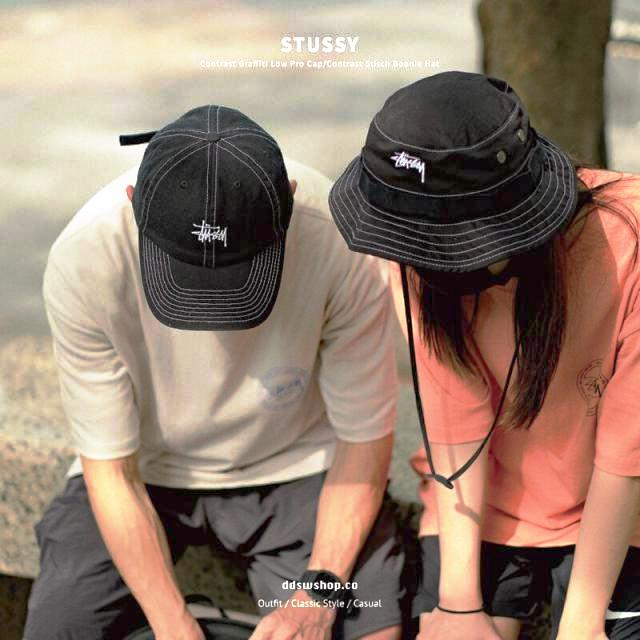TOPI: (327, 72, 586, 272), (120, 100, 294, 332)
